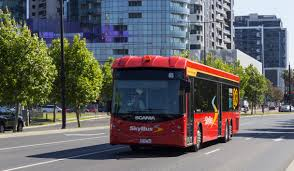bus: (107, 54, 239, 154)
